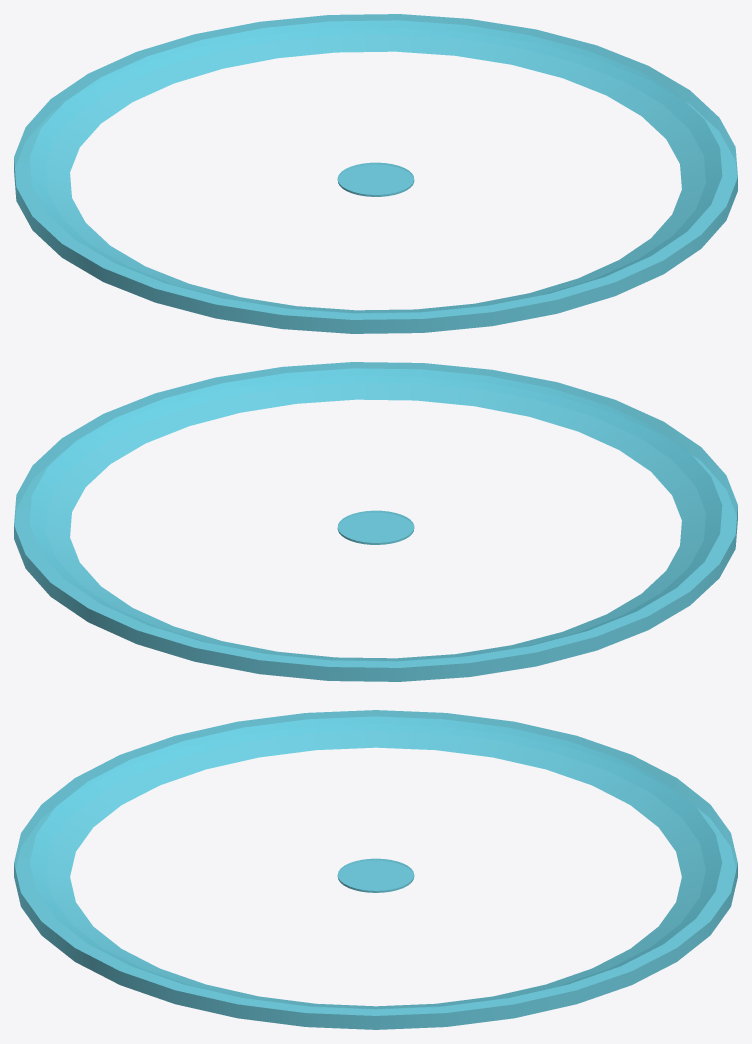
The model's file is teleportation_cyrcle.fbx.
The picture shows the model from 3 angles, top to bottom: view 1: azimuth 30°, elevation 25°; view 2: azimuth 150°, elevation 25°; view 3: azimuth 270°, elevation 25°; orthographic projection.
Parts seen in each view (by area): view 1: teleportation_Circle; view 2: teleportation_Circle; view 3: teleportation_Circle.
Boxes of the visible parts, x1,y1,x2,y2 form: teleportation_Circle: (14,14,737,333); teleportation_Circle: (14,362,737,681); teleportation_Circle: (14,710,737,1029).
Bounding box in the file's own units: 96.91 × 2.1 × 96.91.
